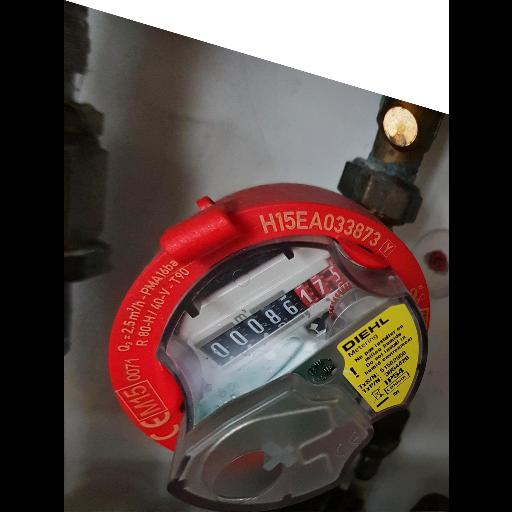0: (199, 332, 239, 371), (219, 321, 257, 358), (237, 309, 273, 345)
1: (293, 279, 322, 310)
5: (320, 262, 348, 291)
6: (273, 288, 308, 323)
7: (307, 270, 336, 300)
8: (255, 299, 290, 334)
border_water_meter_number: (188, 243, 356, 386)
